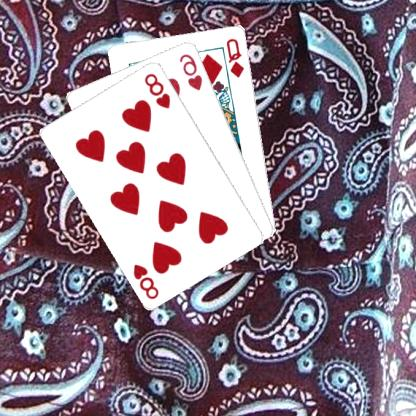6H: (178, 51, 206, 91)
8H: (132, 260, 162, 300), (144, 70, 173, 110)
QD: (226, 35, 248, 79)
